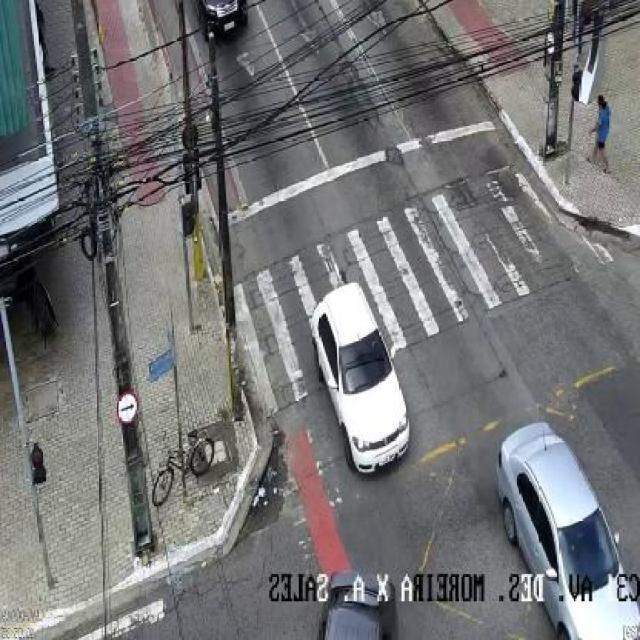Car: (492, 406, 640, 640), (288, 265, 409, 487), (302, 550, 396, 640), (198, 0, 249, 50)
